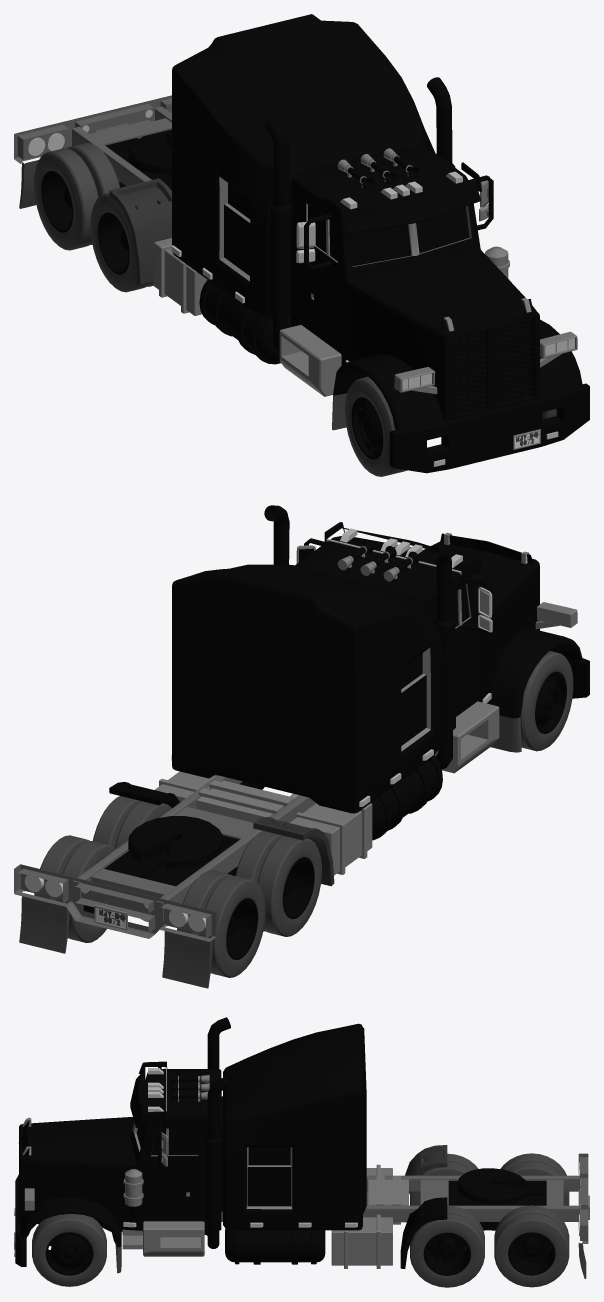
3 renders of one model, top to bottom at view 1: azimuth 30°, elevation 25°; view 2: azimuth 150°, elevation 25°; view 3: azimuth 270°, elevation 25°, orthographic. The views are drawn at different scales.
Parts seen in each view (by area): view 1: aiStandardSurface4SG, aiStandardSurface2SG, blinn2SG, blinn1SG, lambert3SG, lowchromeSG, aiStandardSurface3SG, blinn3SG, glassSG, fenderplasticSG, phong1SG, initialShadingGroup (+3 smaller); view 2: aiStandardSurface4SG, lambert3SG, aiStandardSurface2SG, blinn3SG, blinn2SG, phong3SG, lowchromeSG, blinn1SG, phong1SG, aiStandardSurface3SG, initialShadingGroup, fenderplasticSG (+2 smaller); view 3: aiStandardSurface4SG, aiStandardSurface2SG, lambert3SG, blinn2SG, lowchromeSG, blinn1SG, phong3SG, blinn3SG, phong1SG, aiStandardSurface3SG, glassSG, fenderplasticSG (+2 smaller).
Boxes of the visible parts, x1=… form: aiStandardSurface4SG: x1=172, y1=14, x2=435, y2=318; aiStandardSurface2SG: x1=290, y1=146, x2=533, y2=398; blinn2SG: x1=41, y1=170, x2=589, y2=473; blinn1SG: x1=264, y1=77, x2=539, y2=439; lambert3SG: x1=19, y1=142, x2=556, y2=476; lowchromeSG: x1=154, y1=238, x2=577, y2=396; aiStandardSurface3SG: x1=333, y1=319, x2=582, y2=429; blinn3SG: x1=14, y1=95, x2=171, y2=185; glassSG: x1=228, y1=183, x2=469, y2=266; fenderplasticSG: x1=109, y1=178, x2=171, y2=284; phong1SG: x1=95, y1=123, x2=540, y2=449; initialShadingGroup: x1=28, y1=109, x2=574, y2=466; aiStandardSurface4SG: x1=172, y1=564, x2=443, y2=813; lambert3SG: x1=19, y1=651, x2=573, y2=988; aiStandardSurface2SG: x1=295, y1=536, x2=536, y2=716; blinn3SG: x1=14, y1=775, x2=315, y2=941; blinn2SG: x1=83, y1=658, x2=589, y2=960; phong3SG: x1=104, y1=522, x2=481, y2=886; lowchromeSG: x1=155, y1=602, x2=577, y2=875; blinn1SG: x1=264, y1=505, x2=555, y2=769; phong1SG: x1=94, y1=532, x2=529, y2=930; aiStandardSurface3SG: x1=488, y1=628, x2=582, y2=718; initialShadingGroup: x1=24, y1=528, x2=527, y2=931; fenderplasticSG: x1=253, y1=817, x2=334, y2=886; aiStandardSurface4SG: x1=221, y1=1023, x2=366, y2=1230; aiStandardSurface2SG: x1=28, y1=1069, x2=221, y2=1230; lambert3SG: x1=32, y1=1153, x2=586, y2=1287; blinn2SG: x1=15, y1=1174, x2=555, y2=1275; lowchromeSG: x1=24, y1=1168, x2=392, y2=1265; blinn1SG: x1=18, y1=1017, x2=230, y2=1261; phong3SG: x1=138, y1=1061, x2=546, y2=1268; blinn3SG: x1=221, y1=1153, x2=588, y2=1243; phong1SG: x1=14, y1=1075, x2=589, y2=1268; aiStandardSurface3SG: x1=20, y1=1197, x2=121, y2=1247; glassSG: x1=136, y1=1123, x2=290, y2=1165; fenderplasticSG: x1=405, y1=1145, x2=447, y2=1194.
Bounding box in the file's own units: 8.59 × 11.85 × 29.12.
Materials: 13 (1 with a texture image).
